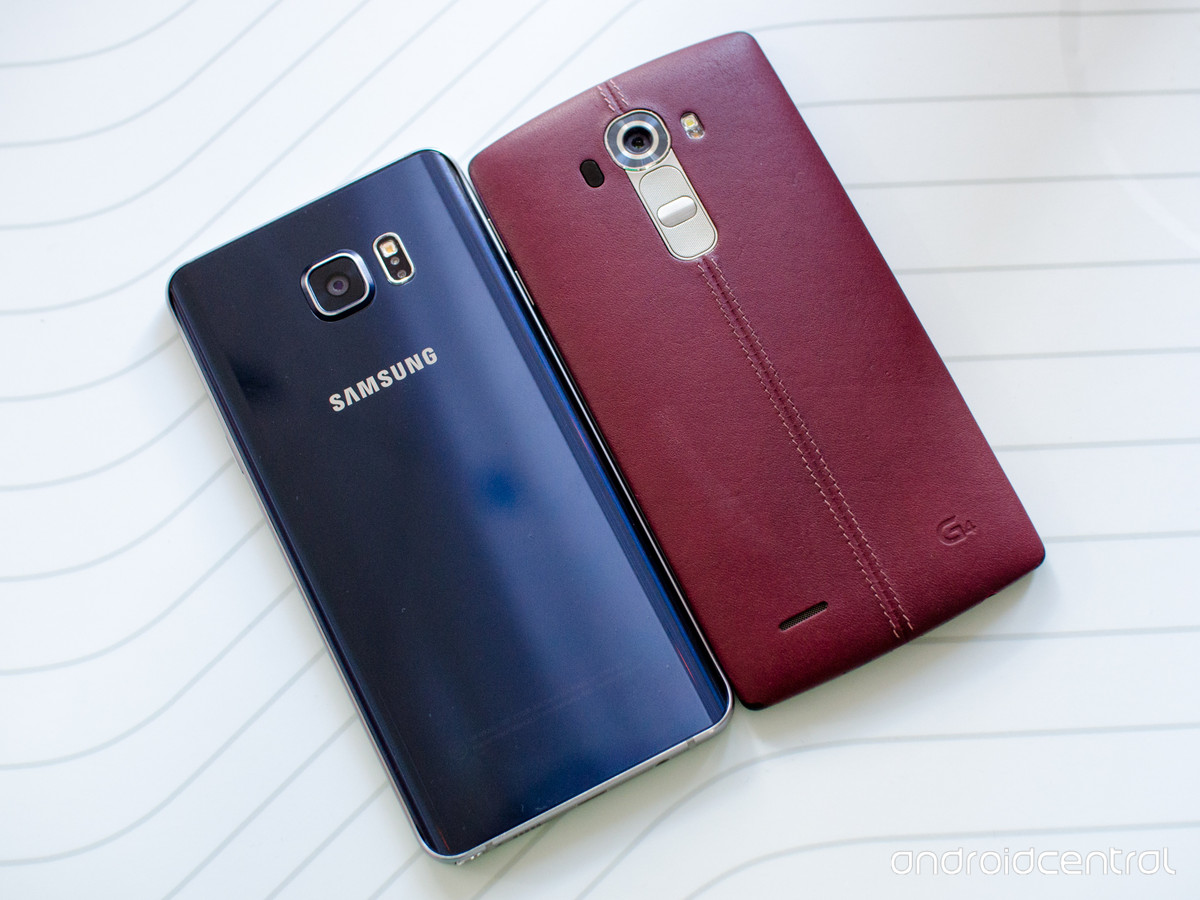smartphone: (165, 148, 736, 865), (468, 31, 1045, 710)
